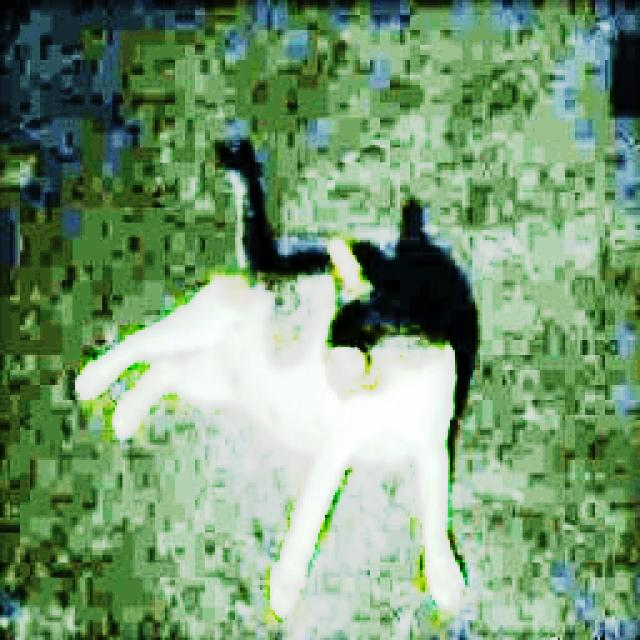cat: (77, 139, 481, 616)
